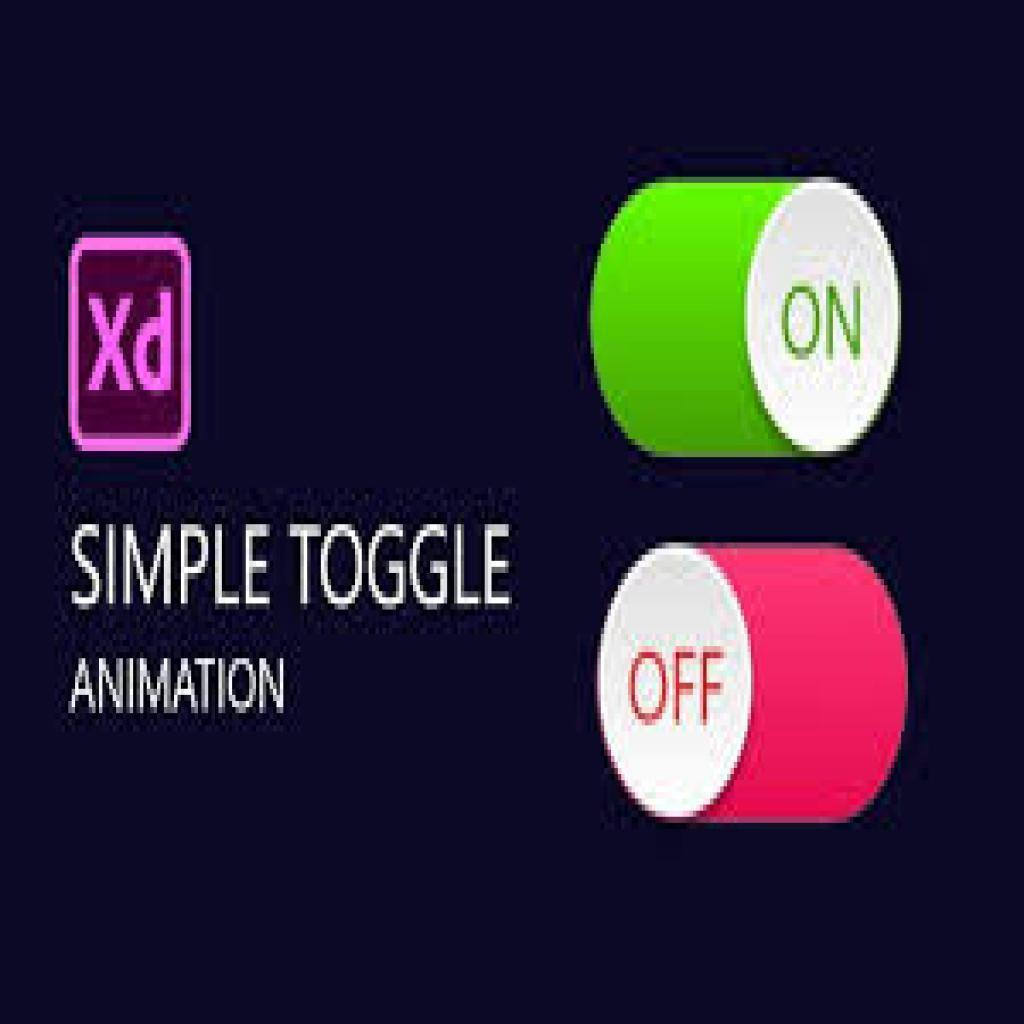switch: (594, 541, 911, 830), (591, 179, 902, 456)
